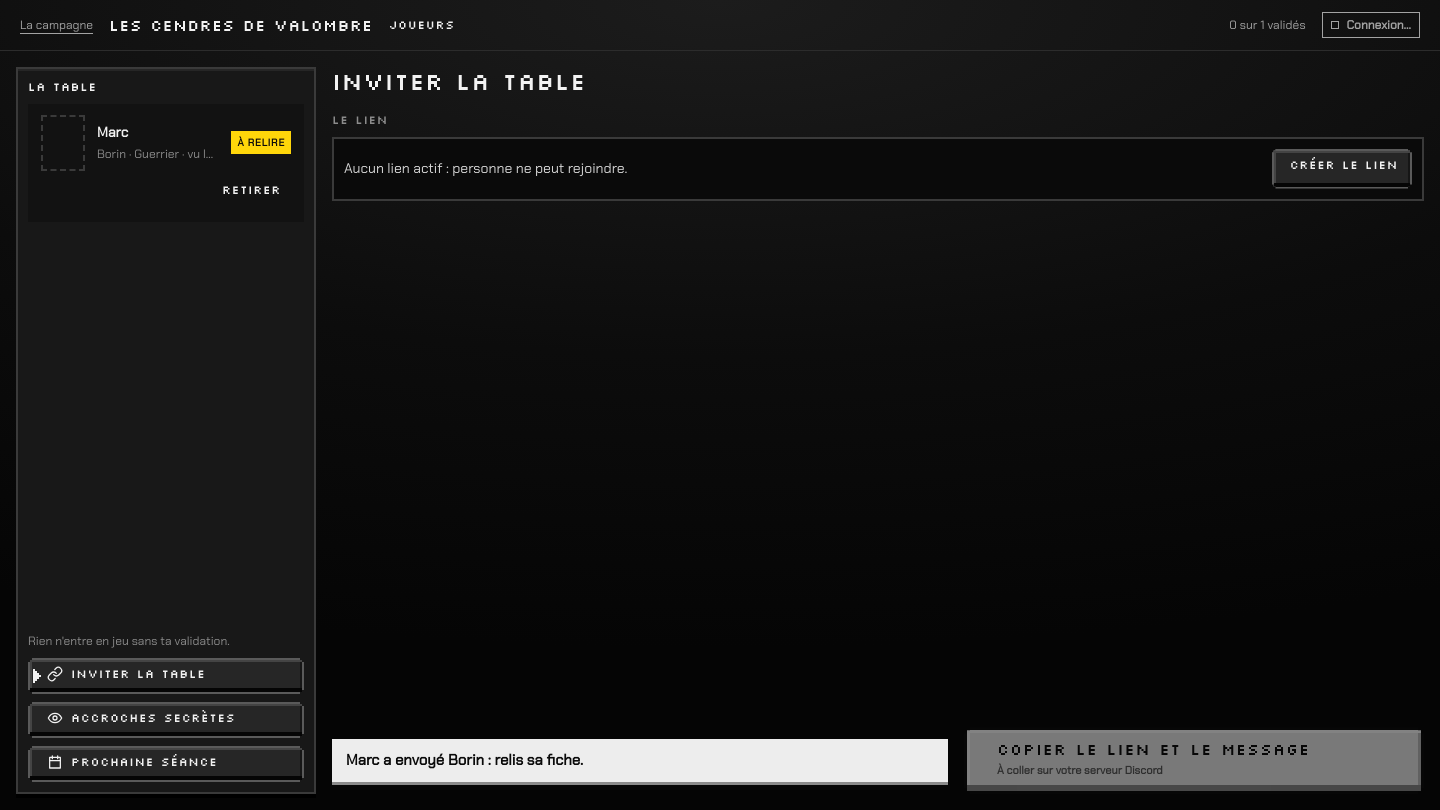
Test: GmTablePage › says so when the sheet changed during the reading, and reloads it
The width and height of the screenshot is (1440, 810).
Click the button "Marc" at (166, 143), box [41,115,291,171]
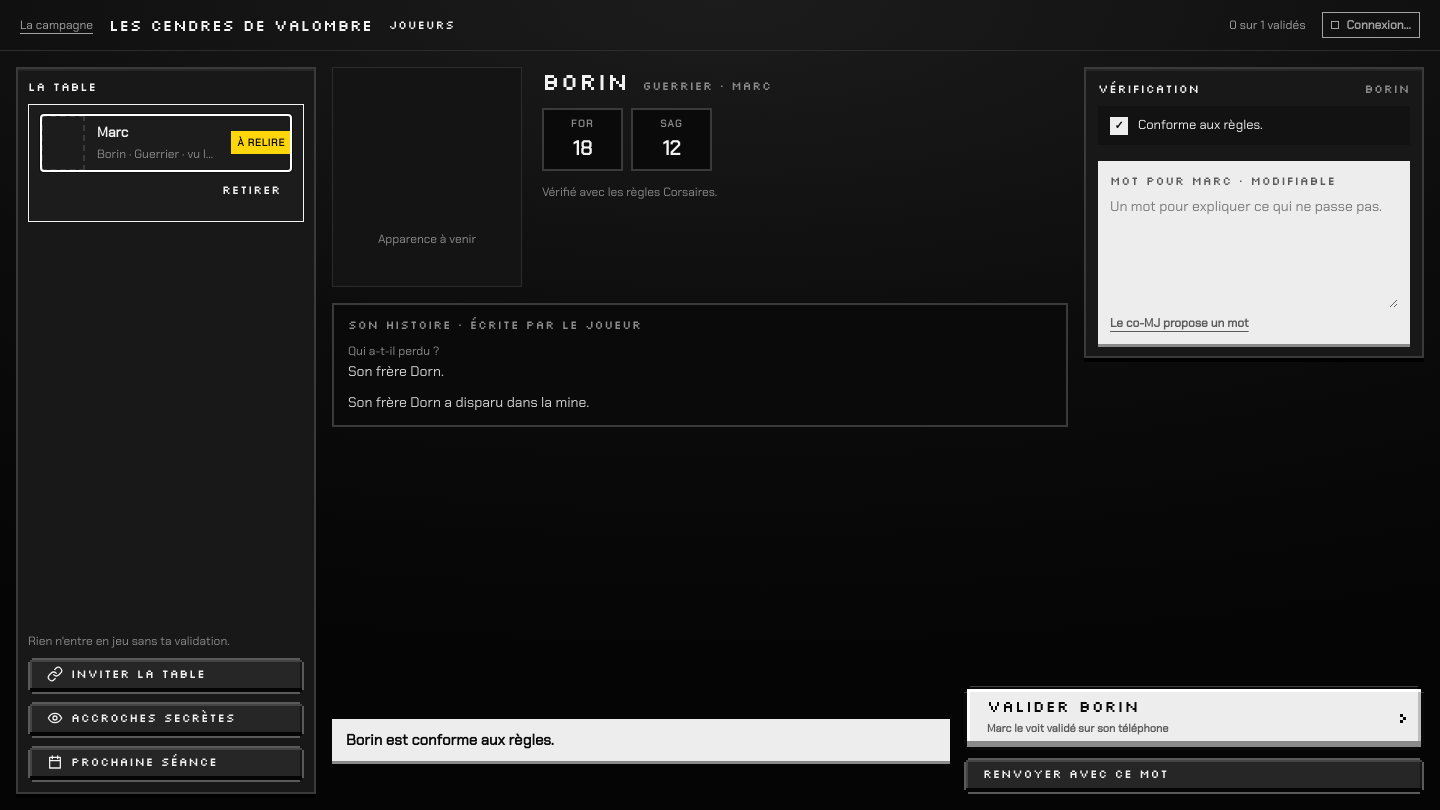
Click the button "Valider Borin Marc le voit validé sur son téléphone ›" at (1063, 706), box [964,686,1424,750]
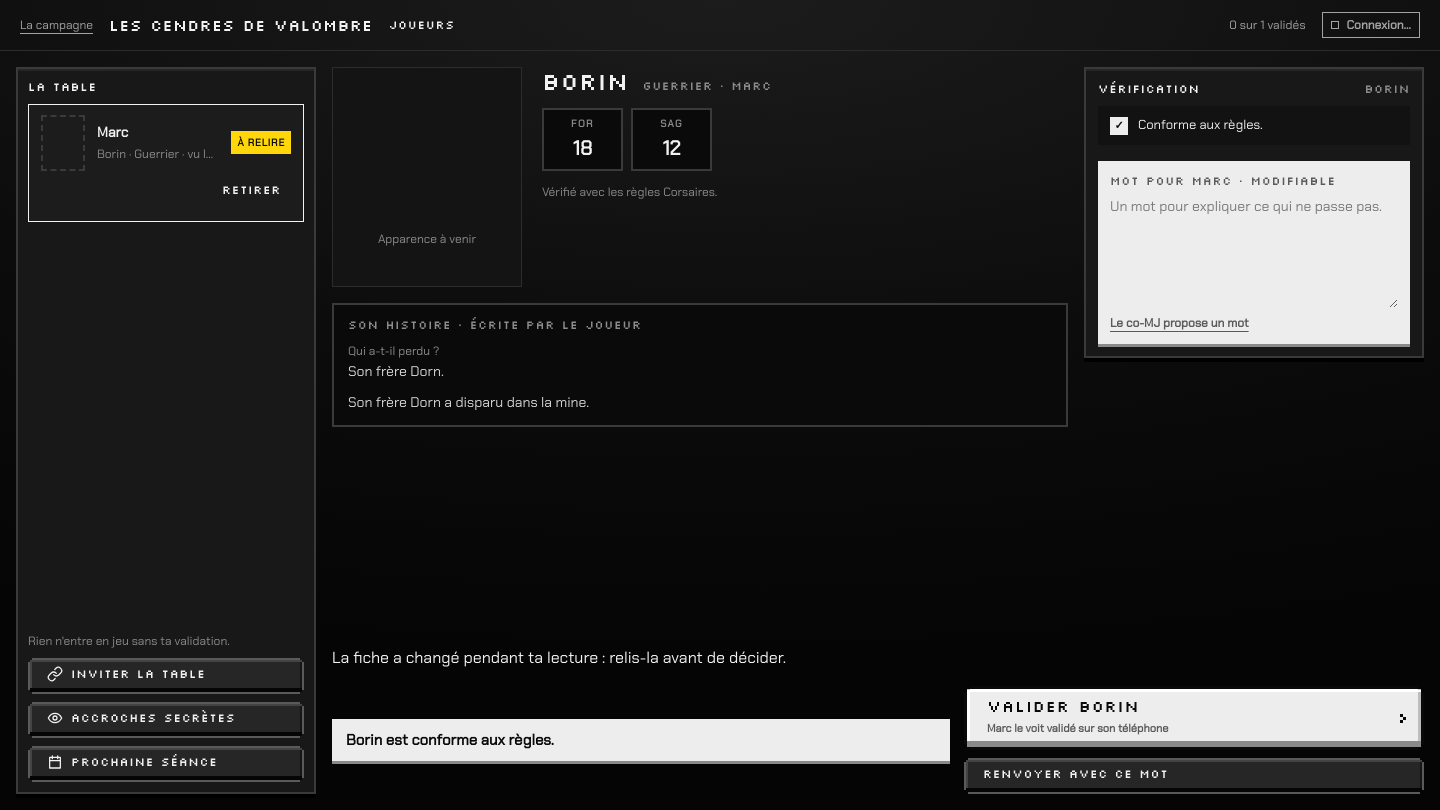
Now the text "La fiche a changé pendant ta lecture : relis-la avant de décider." is shown, box [332,647,786,668]
